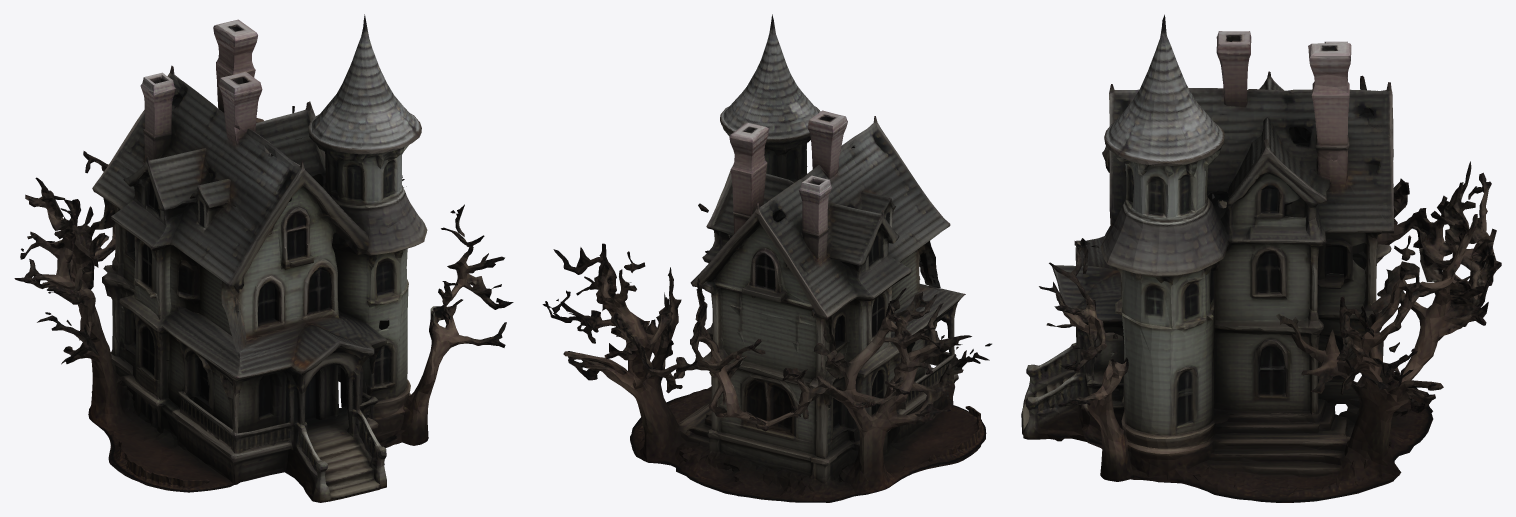
The model's file is creepy-horror-house-2419.glb.
3 views of the same model, side by side, from view 1: azimuth 30°, elevation 25°; view 2: azimuth 150°, elevation 25°; view 3: azimuth 270°, elevation 25° (orthographic). The views are drawn at different scales.
Visible parts, largest first — view 1: world; view 2: world; view 3: world.
Part boxes in pixels (bbox=[...]): world: bbox=[14, 14, 513, 502]; world: bbox=[542, 14, 991, 502]; world: bbox=[1021, 14, 1501, 502].
Bounding box in the file's own units: 0.9716 × 0.9084 × 0.8803.
Materials: 1 (1 with a texture image).
